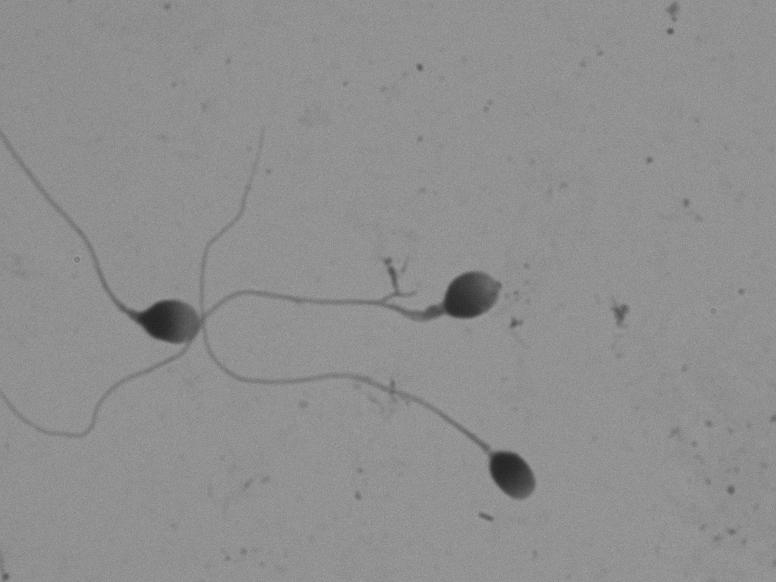Abnormal: (25, 111, 228, 389), (215, 220, 524, 345)
Normal: (200, 332, 563, 517)
